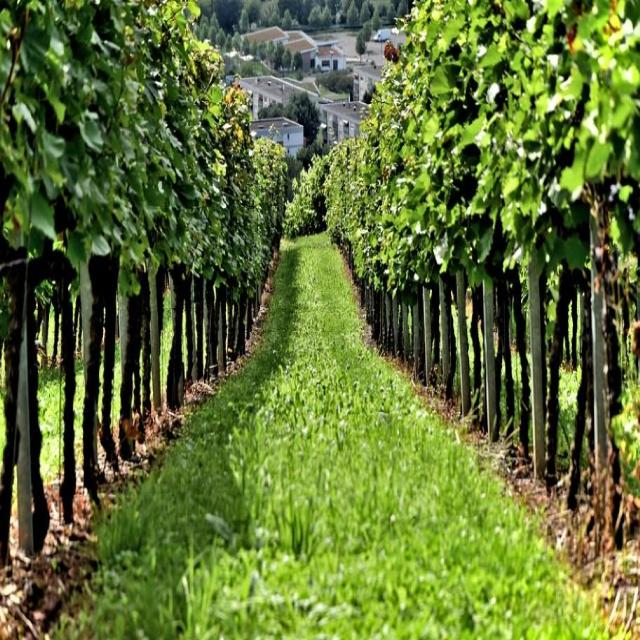row: (0, 234, 639, 640)
